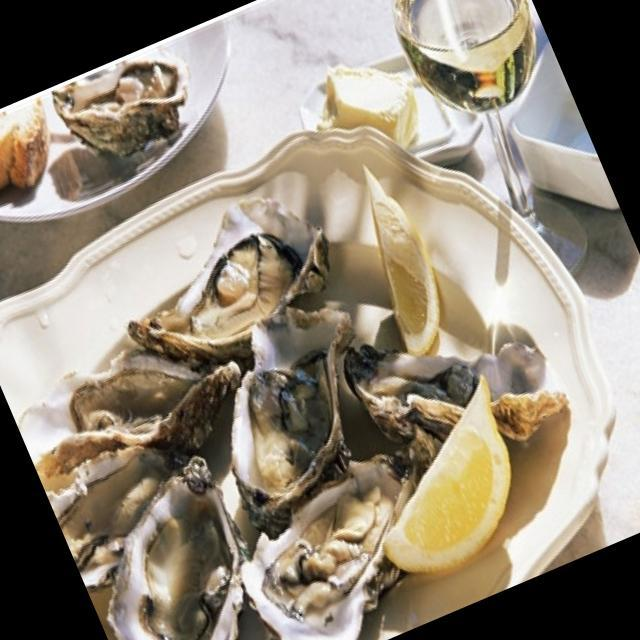Oyster-Open: (174, 282, 416, 535), (334, 274, 579, 500), (98, 176, 351, 387), (211, 443, 463, 640), (53, 443, 291, 640), (32, 313, 260, 497), (39, 426, 211, 594), (43, 36, 208, 180)
